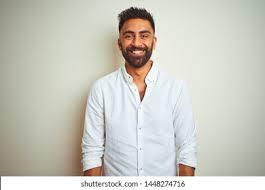Human: (86, 8, 200, 182)
